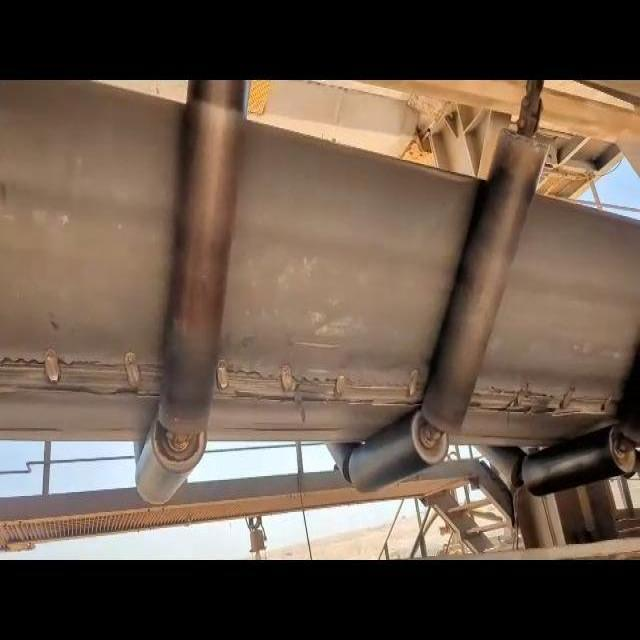Tear: (206, 354, 432, 417), (0, 341, 189, 408), (466, 367, 628, 422)
